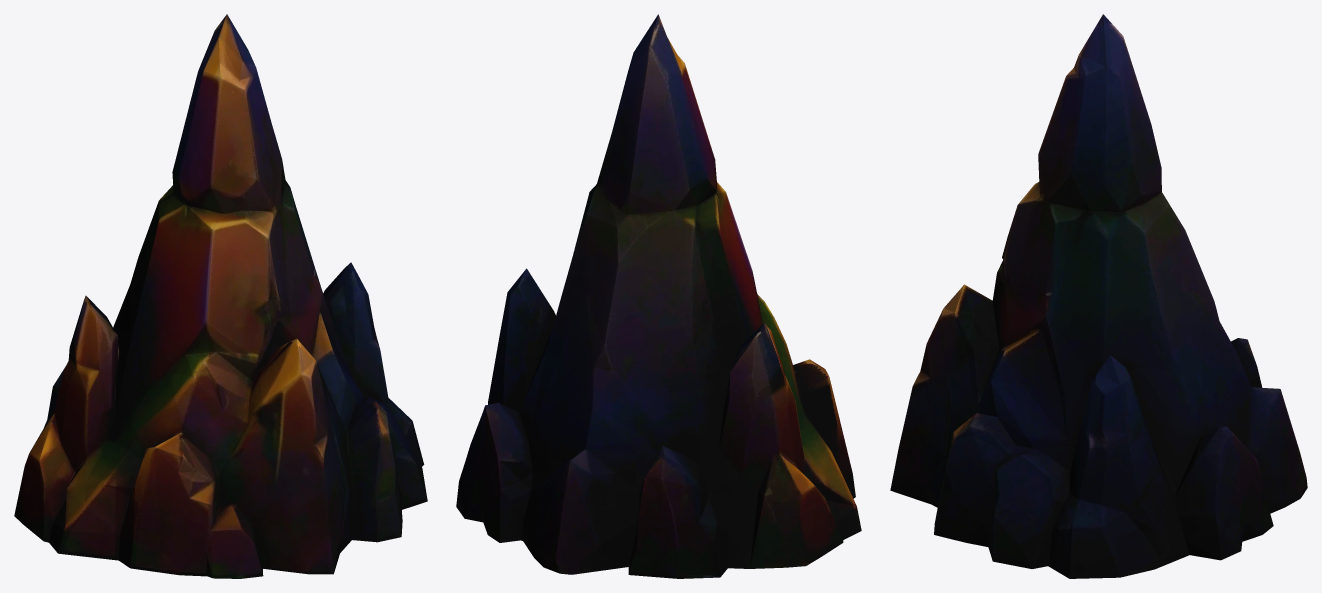
Rendered from crystal_peak.glb.
3 renders of one model, left to right at view 1: azimuth 30°, elevation 25°; view 2: azimuth 150°, elevation 25°; view 3: azimuth 270°, elevation 25°, orthographic.
Size of the model in its own units: 1.58 by 1.98 by 1.57.
Materials: 1 (1 with a texture image).
